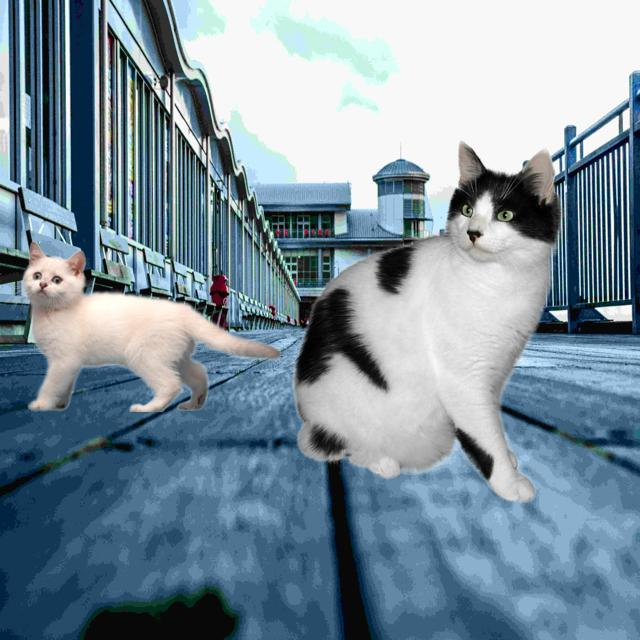cat: (290, 127, 568, 507), (6, 239, 279, 410)
